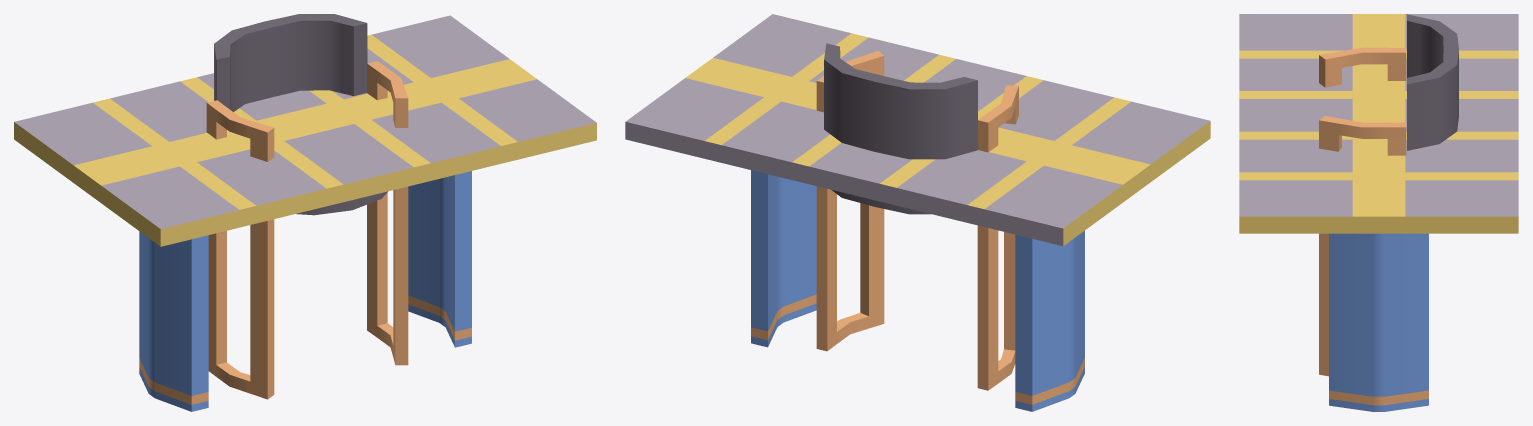
Rendered from Table_N_Chair_04.fbx.
The picture shows the model from 3 angles, left to right: view 1: azimuth 30°, elevation 25°; view 2: azimuth 150°, elevation 25°; view 3: azimuth 270°, elevation 25°; orthographic projection. The views are drawn at different scales.
Parts seen in each view (by area): view 1: Table_Level_04:Table___04, Chair_Level_04:polySurface1; view 2: Table_Level_04:Table___04, Chair_Level_04:polySurface1; view 3: Table_Level_04:Table___04, Chair_Level_04:polySurface1.
Boxes of the visible parts, x1,y1,x2,y2 form: Table_Level_04:Table___04: [14, 15, 596, 411]; Chair_Level_04:polySurface1: [206, 14, 408, 399]; Table_Level_04:Table___04: [625, 14, 1210, 411]; Chair_Level_04:polySurface1: [816, 43, 1018, 390]; Table_Level_04:Table___04: [1239, 14, 1518, 411]; Chair_Level_04:polySurface1: [1319, 14, 1458, 376].
Bounding box in the file's own units: 419 × 282 × 244.
Materials: 2 (2 with a texture image).
